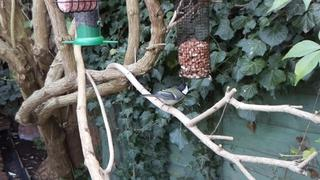great tit: (139, 82, 189, 111)
